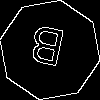B: (25, 25, 67, 76)
